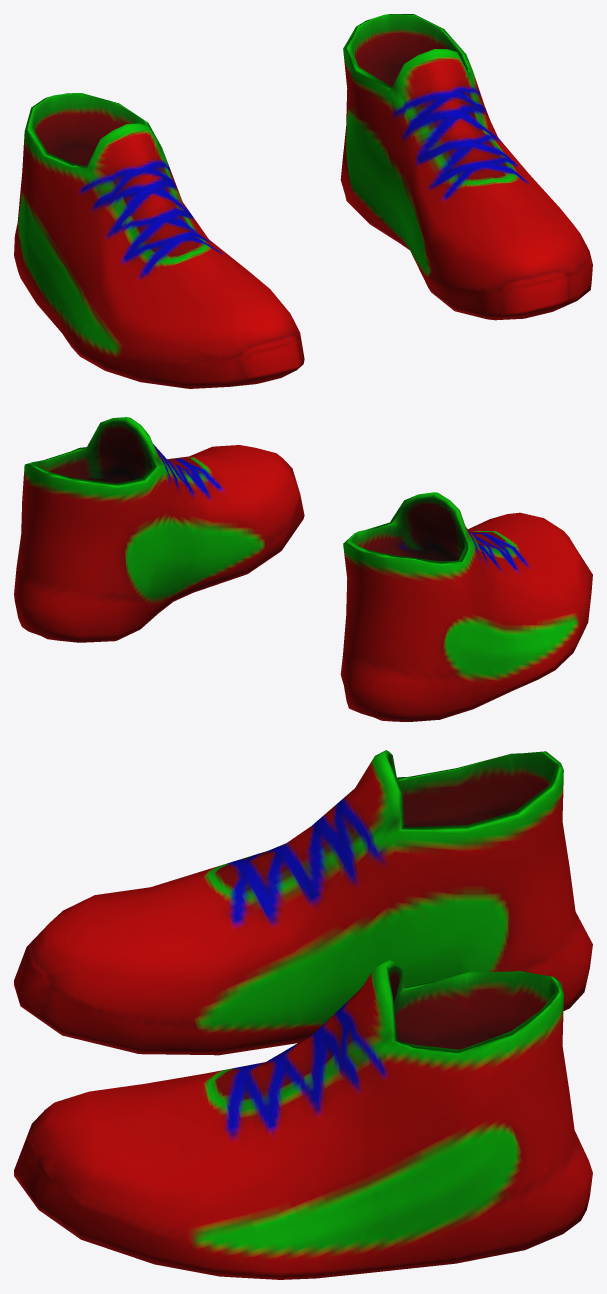
The model's file is BSMC_Outfit_Bottom_SportsShoes.obj.
3 views of the same model, one above another, from view 1: azimuth 30°, elevation 25°; view 2: azimuth 150°, elevation 25°; view 3: azimuth 270°, elevation 25° (orthographic). The views are drawn at different scales.
Parts seen in each view (by area): view 1: BSMC_Outfit_Bottom_SportsShoes_0; view 2: BSMC_Outfit_Bottom_SportsShoes_0; view 3: BSMC_Outfit_Bottom_SportsShoes_0.
Boxes of the visible parts, left/top/right/bottom form: BSMC_Outfit_Bottom_SportsShoes_0: left=14, top=14, right=592, bottom=388; BSMC_Outfit_Bottom_SportsShoes_0: left=14, top=417, right=592, bottom=721; BSMC_Outfit_Bottom_SportsShoes_0: left=14, top=750, right=592, bottom=1279.
Size of the model in its own units: 0.3391 by 0.131 by 0.2555.
Materials: 1 (1 with a texture image).
